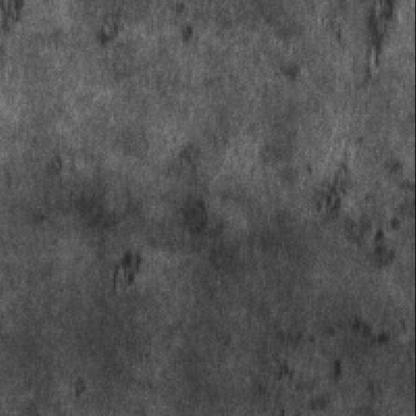rolled-in_scale: (320, 141, 416, 256), (260, 316, 352, 416)
